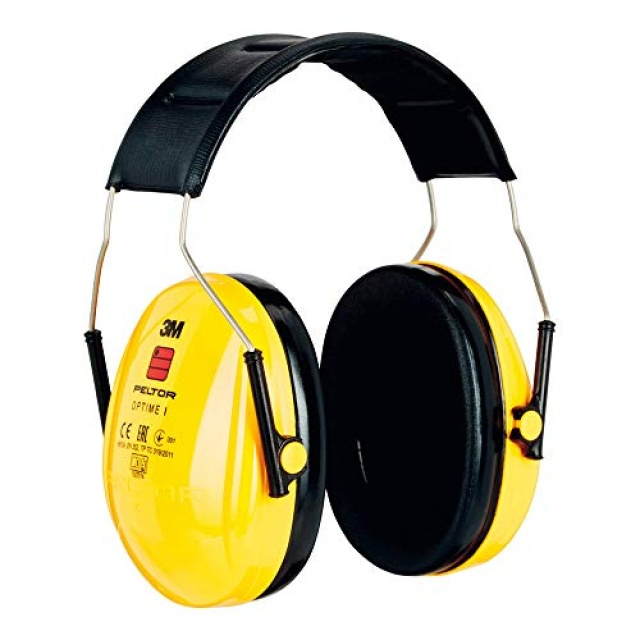Hearing_Protection: (72, 23, 567, 582)
